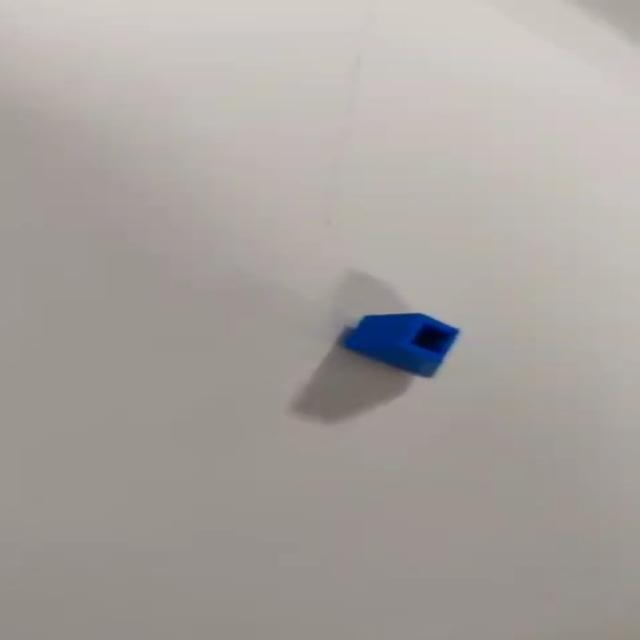X1x2x1: (337, 308, 476, 387)
